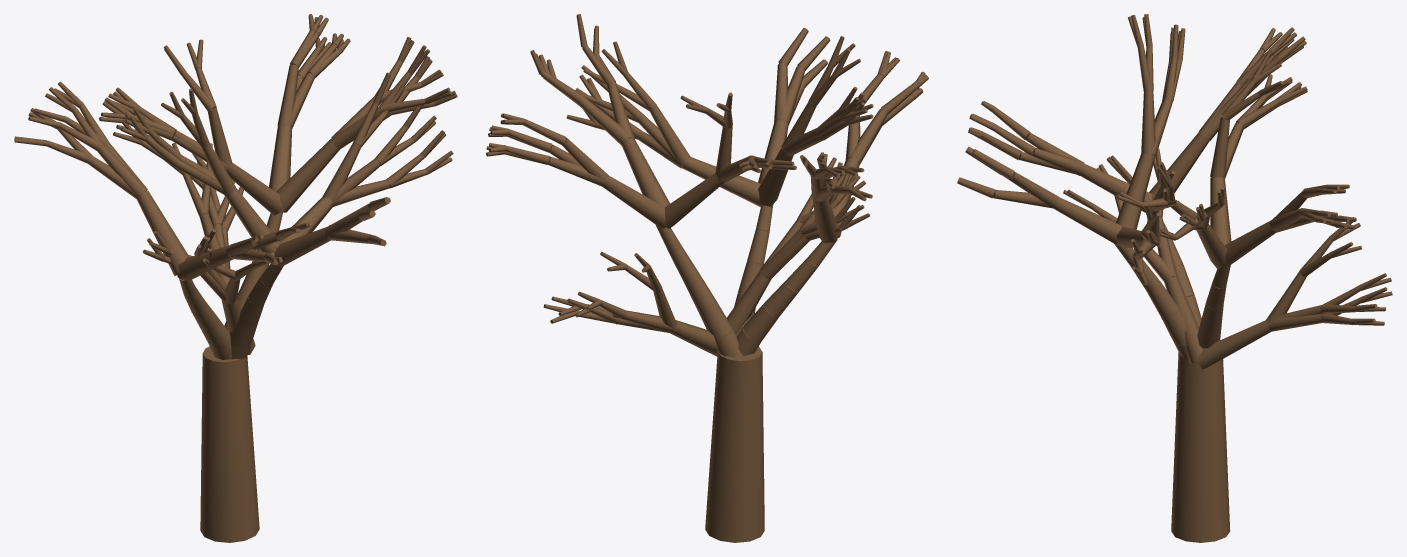
Rendered from szilva-tel.glb.
3 views of the same model, side by side, from view 1: azimuth 30°, elevation 25°; view 2: azimuth 150°, elevation 25°; view 3: azimuth 270°, elevation 25° (orthographic).
Visible parts, largest first — view 1: torzs, gally-9-2 (×3), gally-0-1, gally-6-1, gally-6-2 (×2), gally-4-1, gally-8-1, gally-5-1, gally-1-1, gally-2-1, gally-9-1, gally-8-2 (+4 smaller); view 2: torzs, gally-0-2 (×2), gally-0-1, gally-1-2 (×2), gally-8-1, gally-8-2 (×2), gally-9-1, gally-4-1, gally-3-1, gally-5-1, gally-7-1, gally-6-1 (+12 smaller); view 3: torzs, gally-7-1, gally-5-2 (×2), gally-5-1, gally-7-2 (×2), gally-1-1, gally-3-1, gally-1-2 (×2), gally-6-1, gally-8-1, gally-4-1, gally-2-1 (+5 smaller).
Boxes of the visible parts, x1,y1,x2,y2 form: torzs: [200, 346, 259, 542]; gally-9-2 (×3): [322, 142, 389, 206]; gally-0-1: [276, 138, 339, 212]; gally-6-1: [136, 191, 189, 276]; gally-6-2 (×2): [87, 144, 147, 198]; gally-4-1: [225, 163, 283, 215]; gally-8-1: [269, 124, 291, 191]; gally-5-1: [224, 188, 280, 253]; gally-1-1: [274, 226, 330, 267]; gally-2-1: [177, 245, 233, 281]; gally-9-1: [279, 197, 333, 243]; gally-8-2: [277, 64, 298, 127]; torzs: [705, 346, 764, 542]; gally-0-2 (×2): [577, 82, 634, 144]; gally-0-1: [621, 138, 669, 206]; gally-1-2 (×2): [774, 63, 805, 123]; gally-8-1: [602, 176, 665, 229]; gally-8-2 (×2): [548, 138, 608, 186]; gally-9-1: [682, 156, 763, 207]; gally-4-1: [665, 173, 723, 228]; gally-3-1: [727, 271, 771, 334]; gally-5-1: [758, 147, 793, 206]; gally-7-1: [670, 320, 717, 356]; gally-6-1: [812, 196, 840, 243]; torzs: [1171, 352, 1230, 542]; gally-7-1: [1196, 320, 1272, 369]; gally-5-2 (×2): [1141, 91, 1172, 156]; gally-5-1: [1116, 153, 1155, 229]; gally-7-2 (×2): [1266, 271, 1323, 331]; gally-1-1: [1054, 197, 1122, 246]; gally-3-1: [1164, 276, 1202, 363]; gally-1-2 (×2): [993, 171, 1059, 208]; gally-6-1: [1149, 132, 1209, 209]; gally-8-1: [1221, 220, 1276, 269]; gally-4-1: [1210, 177, 1231, 245]; gally-2-1: [1080, 164, 1152, 212].
Size of the model in its own units: 4.85 by 5.85 by 4.79.
